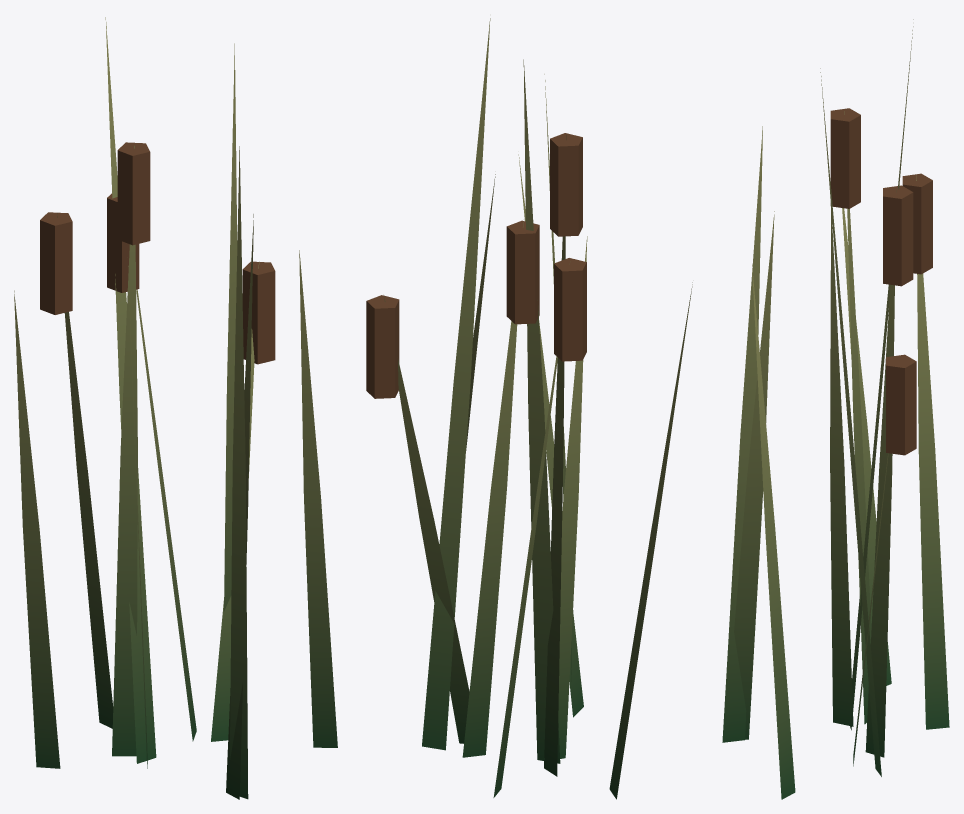
The model's file is reed_clump.glb.
3 renders of one model, left to right at view 1: azimuth 30°, elevation 25°; view 2: azimuth 150°, elevation 25°; view 3: azimuth 270°, elevation 25°, orthographic. The views are drawn at different scales.
Visible parts, largest first — view 1: Reeds; view 2: Reeds; view 3: Reeds.
Part boxes in pixels (<box>): Reeds: <box>14,17,337,799</box>; Reeds: <box>366,18,692,799</box>; Reeds: <box>722,19,949,799</box>.
Size of the model in its own units: 0.6894 by 1.63 by 0.4715.
